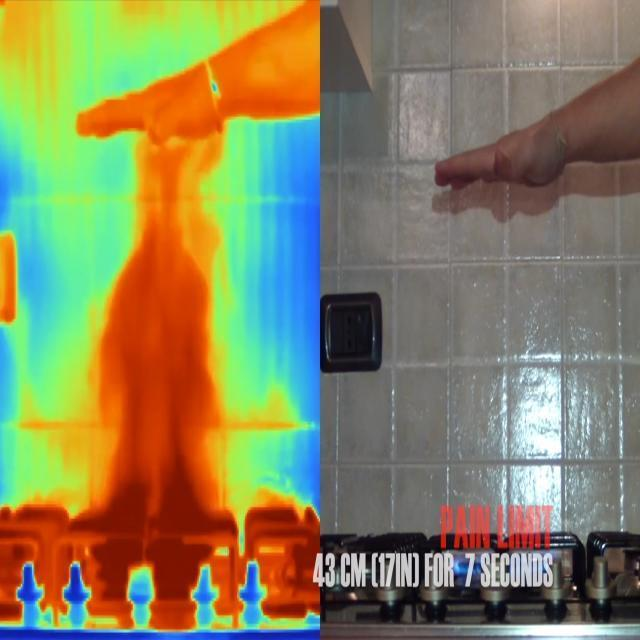fire: (77, 480, 235, 595)
